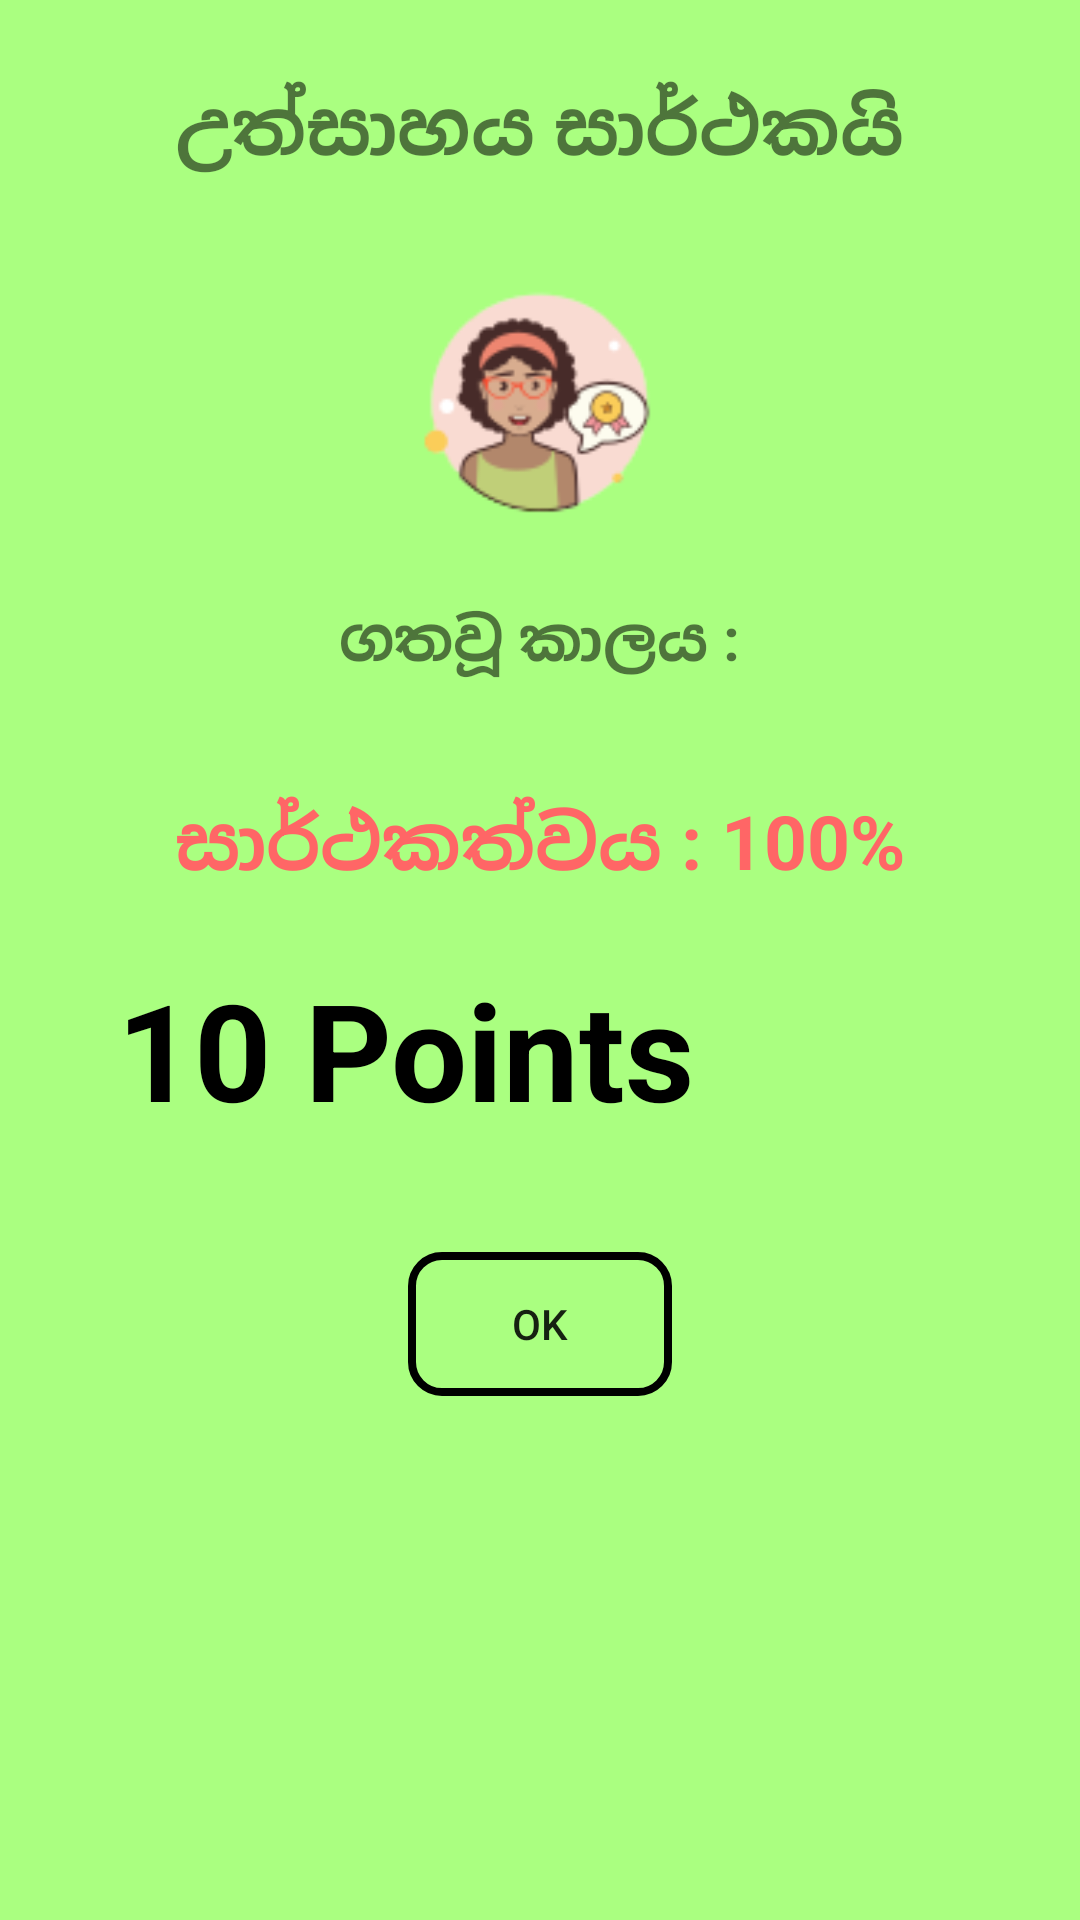

Screen size 1080x1920. Icon name, then its box in pixels as (x1, y1, x2, y2):
success: (424, 294, 650, 513)
